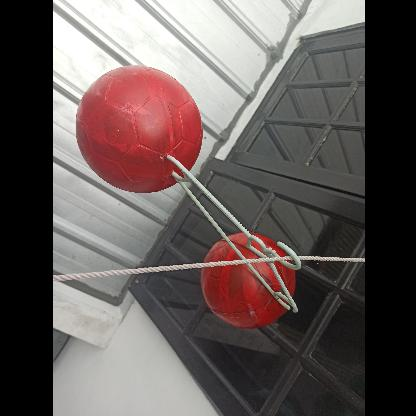red_ball: (74, 64, 204, 192)
